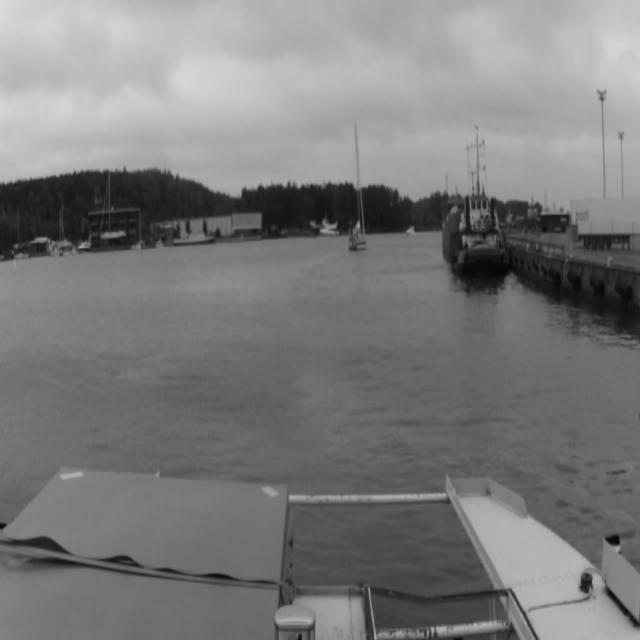ship: (437, 122, 505, 285), (340, 111, 370, 253)
